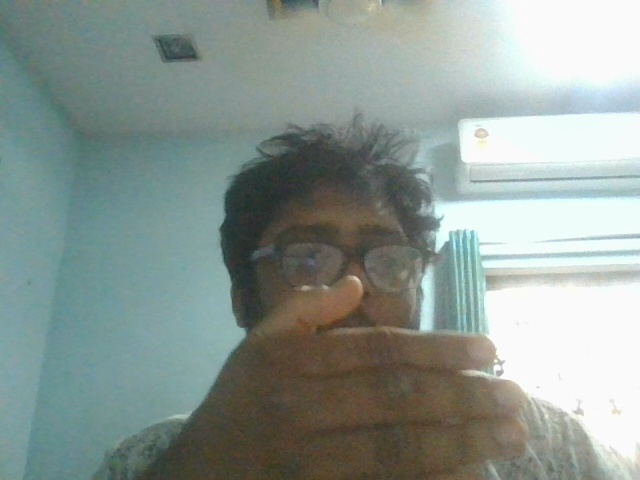LEFT: (191, 254, 541, 480)
